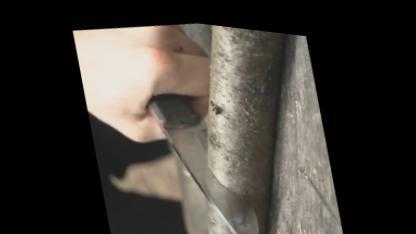knife: (109, 10, 270, 233)
